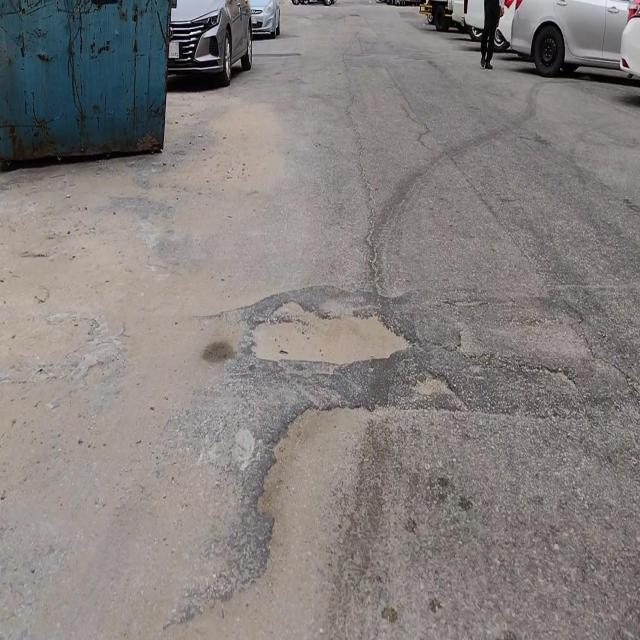Pothole: (253, 299, 409, 363)
